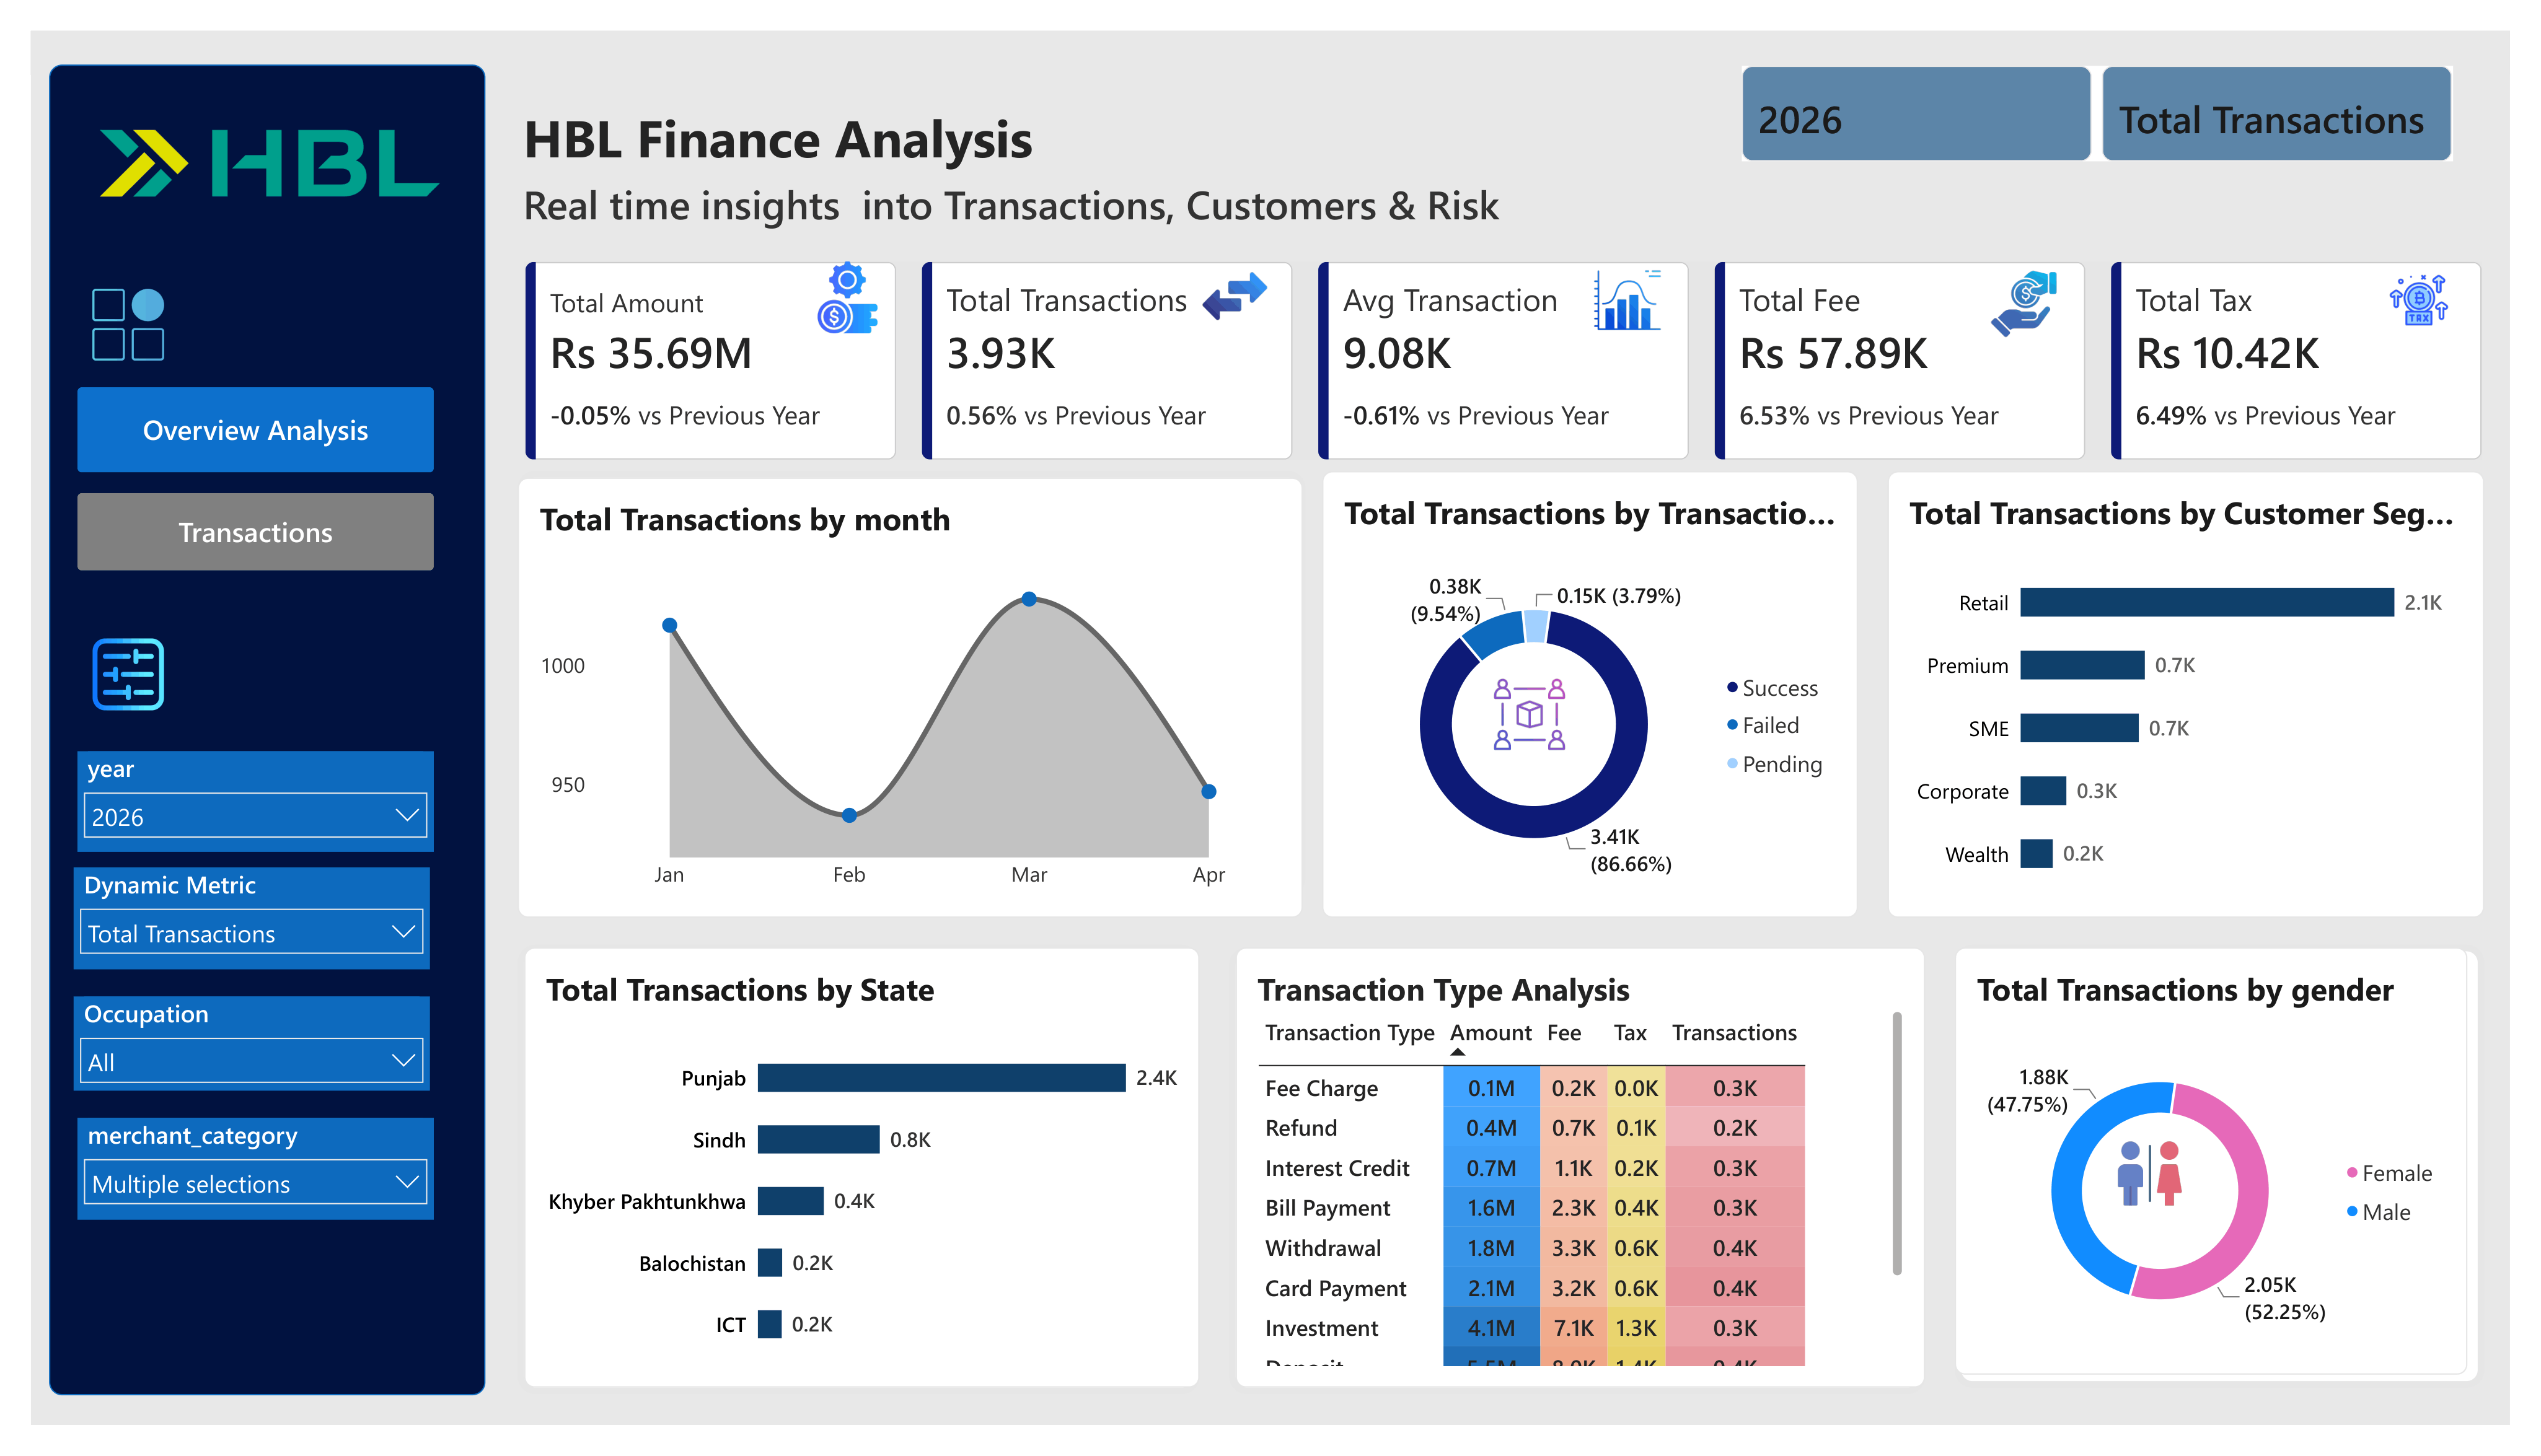

Layout of this report page (visuals, bound fields, positions):
{"tool":"powerbi","page":{"name":"Overview Analysis","canvas":[1920,1080],"ordinal":0},"visuals":[{"type":"shape","box":[14.4,26,338,1031.3],"z":0},{"type":"image","box":[34.7,26,300.4,153.1],"z":1000},{"type":"cardVisual","title":"HBL Finance Analysis","fields":{"Data":["finance_transactions.Dashboard Title"]},"box":[381.3,54.9,829.1,98.2],"z":2000},{"type":"cardVisual","fields":{"Data":["finance_transactions.Total Amount","finance_transactions.Total Transactions","finance_transactions.Avg transaction Value","finance_transactions.Total Fee","finance_transactions.Total Tax"]},"box":[381.6,178.9,1518.4,152.6],"z":3000},{"type":"slicer","fields":{"Values":["Calender Table.year"]},"box":[35.7,455.7,277,77.4],"z":4000},{"type":"image","box":[604.6,178.7,55,55],"z":5000},{"type":"image","box":[905.4,178.7,53.6,53.6],"z":6000},{"type":"image","box":[1515.9,184.7,53.6,53.6],"z":7000},{"type":"image","box":[1209.2,181.7,53.6,53.6],"z":8000},{"type":"image","box":[1822.7,178.7,53.6,59.6],"z":9000},{"type":"slicer","fields":{"Values":["Dynamic Metric.Dynamic Metric"]},"box":[35.7,559.9,277,80.4],"z":10000},{"type":"shape","box":[376.9,341,610.3,328.2],"z":11000},{"type":"areaChart","fields":{"Category":["Calender Table.month"],"Y":["finance_transactions.Total Amount measure M"]},"box":[376.9,346.2,607.7,341],"z":12000},{"type":"cardVisual","fields":{"Data":["finance_transactions.Selected year","finance_transactions.Selected Dynamic Measure"]},"box":[1325.3,26.8,551,74.5],"z":13000},{"type":"shape","box":[1000,356.4,415.4,312.8],"z":14000},{"type":"donutChart","fields":{"Category":["finance_transactions.transaction_status"],"Y":["finance_transactions.Total Amount measure M"]},"box":[1000,341,415.4,346.2],"z":15000},{"type":"shape","box":[1438.5,341,461.5,305.1],"z":16000},{"type":"barChart","fields":{"Category":["customers.customer_segment"],"Y":["finance_transactions.Total Amount measure M"]},"box":[1438.5,341,461.5,346.2],"z":17000},{"type":"shape","box":[376.9,707.7,528.2,348.7],"z":18000},{"type":"barChart","fields":{"Category":["customers.State"],"Y":["finance_transactions.Total Amount measure M"]},"box":[382.1,710.3,523.1,341],"z":19000},{"type":"shape","box":[928.2,710.3,538.5,346.2],"z":20000},{"type":"tableEx","title":"Transaction Type Analysis","fields":{"Values":["finance_transactions.transaction_type","finance_transactions.Total Amount measure","finance_transactions.Total Fee measure","finance_transactions.Total Tax measure","finance_transactions.Total Transactions"]},"box":[933.3,710.3,533.3,341],"z":21000},{"type":"shape","box":[1489.7,707.7,410.3,343.6],"z":22000},{"type":"donutChart","fields":{"Category":["customers.gender"],"Y":["finance_transactions.Total Amount measure M"]},"box":[1489.7,710.3,397.4,330.8],"z":23000},{"type":"image","box":[1612.8,843.6,56.4,82.1],"z":24000},{"type":"image","box":[1123.1,500,74.4,59],"z":24001},{"type":"slicer","fields":{"Values":["customers.occupation"]},"box":[35.7,670.1,277,71.5],"z":24002},{"type":"slicer","fields":{"Values":["finance_transactions.merchant_category"]},"box":[35.7,762.4,277,80.4],"z":24003},{"type":"pageNavigator","box":[35.7,277,277,134],"z":24004}]}

Visuals, with their boxes on the page's 1920x1080 design canvas (x1, y1, x2, y2). These are canvas units, not pixel positions in the 2541x1456 screenshot, which may show the page scaled, cropped or inside an application window:
shape: x1=14, y1=26, x2=352, y2=1057
image: x1=35, y1=26, x2=335, y2=179
"HBL Finance Analysis" cardVisual: x1=381, y1=55, x2=1210, y2=153
cardVisual - finance_transactions.Total Amount x finance_transactions.Total Transactions: x1=382, y1=179, x2=1900, y2=332
slicer - Calender Table.year: x1=36, y1=456, x2=313, y2=533
image: x1=605, y1=179, x2=660, y2=234
image: x1=905, y1=179, x2=959, y2=232
image: x1=1516, y1=185, x2=1570, y2=238
image: x1=1209, y1=182, x2=1263, y2=235
image: x1=1823, y1=179, x2=1876, y2=238
slicer - Dynamic Metric.Dynamic Metric: x1=36, y1=560, x2=313, y2=640
shape: x1=377, y1=341, x2=987, y2=669
areaChart - Calender Table.month x finance_transactions.Total Amount measure M: x1=377, y1=346, x2=985, y2=687
cardVisual - finance_transactions.Selected year x finance_transactions.Selected Dynamic Measure: x1=1325, y1=27, x2=1876, y2=101
shape: x1=1000, y1=356, x2=1415, y2=669
donutChart - finance_transactions.transaction_status x finance_transactions.Total Amount measure M: x1=1000, y1=341, x2=1415, y2=687
shape: x1=1438, y1=341, x2=1900, y2=646
barChart - customers.customer_segment x finance_transactions.Total Amount measure M: x1=1438, y1=341, x2=1900, y2=687
shape: x1=377, y1=708, x2=905, y2=1056
barChart - customers.State x finance_transactions.Total Amount measure M: x1=382, y1=710, x2=905, y2=1051
shape: x1=928, y1=710, x2=1467, y2=1056
"Transaction Type Analysis" tableEx: x1=933, y1=710, x2=1467, y2=1051
shape: x1=1490, y1=708, x2=1900, y2=1051
donutChart - customers.gender x finance_transactions.Total Amount measure M: x1=1490, y1=710, x2=1887, y2=1041
image: x1=1613, y1=844, x2=1669, y2=926
image: x1=1123, y1=500, x2=1198, y2=559
slicer - customers.occupation: x1=36, y1=670, x2=313, y2=742
slicer - finance_transactions.merchant_category: x1=36, y1=762, x2=313, y2=843
pageNavigator: x1=36, y1=277, x2=313, y2=411
